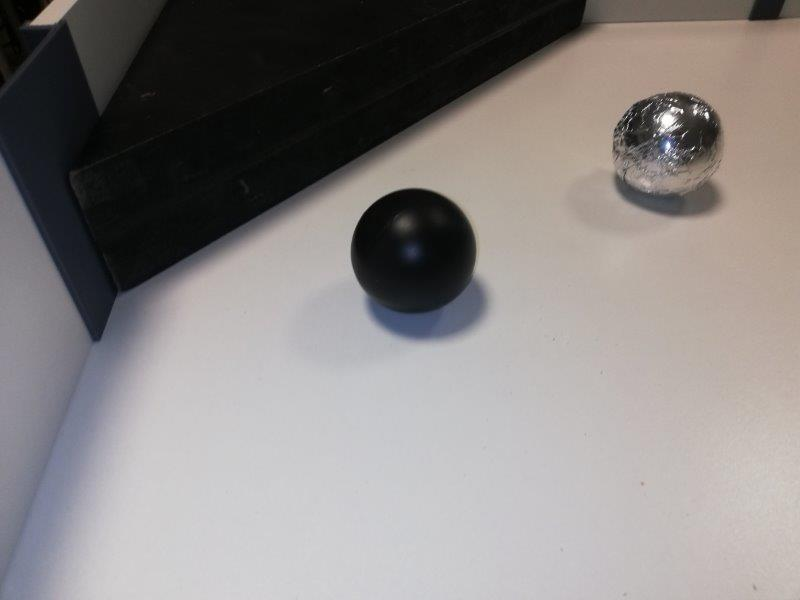bianca: (611, 90, 725, 198)
nera: (351, 187, 478, 313)
